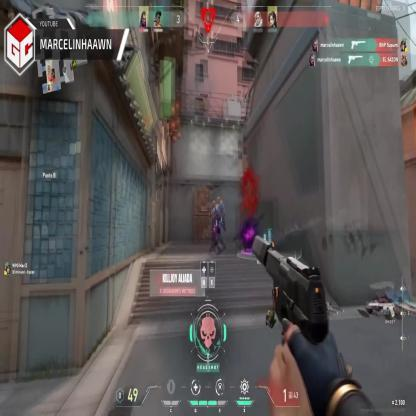enemy: (211, 197, 225, 256)
enemy_head: (211, 200, 216, 209)
